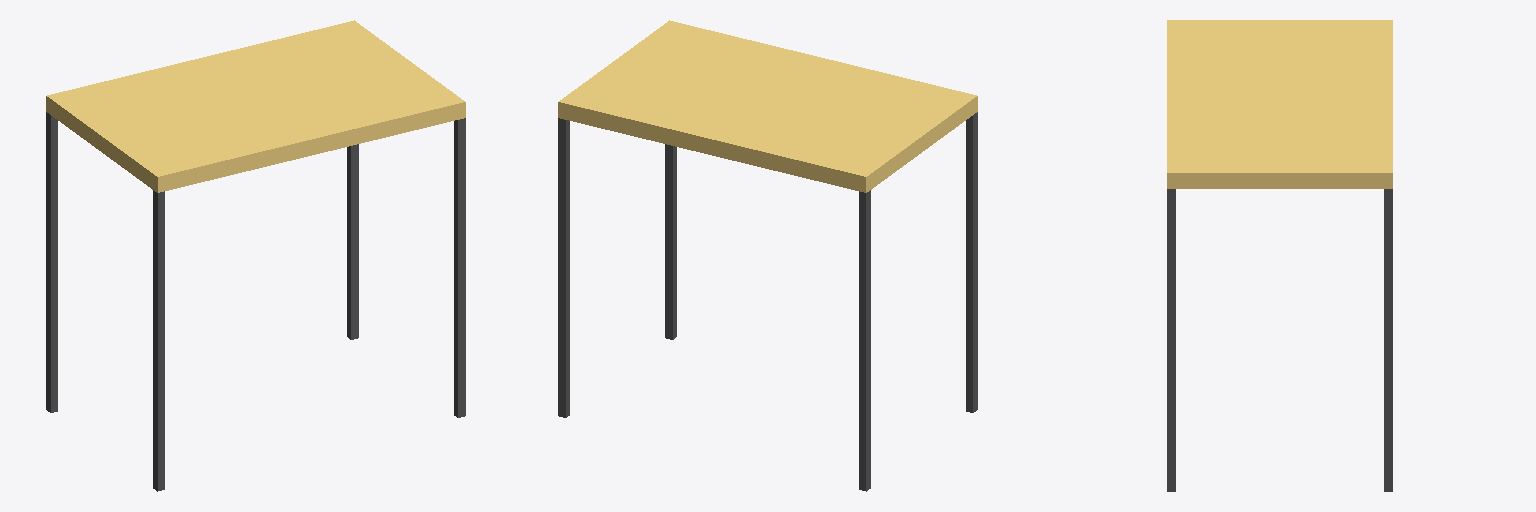
robot.urdf — average_table:
<?xml version="1.0" ?>
<!-- =================================================================================== -->
<!-- |    This document was autogenerated by xacro from average_table.xacro            | -->
<!-- |    EDITING THIS FILE BY HAND IS NOT RECOMMENDED                                 | -->
<!-- =================================================================================== -->
<robot name="average_table" xmlns:xacro="http://www.ros.org/wiki/xacro">
  <!-- Import all Gazebo-customization elements, including Gazebo colors -->
  <gazebo reference="table_link">
    <material>Gazebo/Wood</material>
  </gazebo>
  <gazebo reference="front_right_leg">
    <material>Gazebo/Grey</material>
  </gazebo>
  <gazebo reference="front_left_leg">
    <material>Gazebo/Grey</material>
  </gazebo>
  <gazebo reference="rear_left_leg">
    <material>Gazebo/Grey</material>
  </gazebo>
  <gazebo reference="rear_right_leg">
    <material>Gazebo/Grey</material>
  </gazebo>
  <!-- Import Rviz colors -->
  <material name="red">
    <color rgba="0.8 0.0 0.0 1.0"/>
  </material>
  <material name="Grey">
    <color rgba="0.6 0.6 0.6 1.0"/>
  </material>
  <material name="Black">
    <color rgba="0.0 0.0 0.0 1"/>
  </material>
  <material name="Blue">
    <color rgba="0.0 0.0 1.0 1"/>
  </material>
  <material name="Wood">
    <color rgba="1 0.88 0.56 1"/>
  </material>
  <!--xacro:macro name="table" params="parent"-->
  <link name="average_table_link">
    <visual>
      <origin rpy="0 0 0" xyz="0 0 -0.02"/>
      <geometry>
        <box size="0.8 0.5 0.04"/>
      </geometry>
      <material name="Wood">
        <color rgba="1 0.88 0.56 1"/>
      </material>
    </visual>
    <inertial>
      <origin rpy="0 0 0" xyz="0 0 0"/>
      <mass value="1"/>
      <inertia ixx="0.0741666666667" ixy="0.0" ixz="0.0" iyy="0.0209666666667" iyz="0.0" izz="0.0534666666667"/>
    </inertial>
    <collision>
      <origin rpy="0 0 0" xyz="0 0 0"/>
      <geometry>
        <box size="0.8 0.5 0.04"/>
      </geometry>
    </collision>
  </link>
  <link name="front_left_leg">
    <visual>
      <origin rpy="0 0 0" xyz="0 0 -0.02"/>
      <geometry>
        <box size="0.02 0.02 0.74"/>
      </geometry>
      <material name="Grey">
        <color rgba="0.4 0.4 0.4 1"/>
      </material>
    </visual>
    <inertial>
      <origin rpy="0 0 0" xyz="0 0 0"/>
      <mass value="1"/>
      <inertia ixx="0.0114166666667" ixy="0.0" ixz="0.0" iyy="1.66666666667e-05" iyz="0.0" izz="0.0114166666667"/>
    </inertial>
    <collision>
      <origin rpy="0 0 0" xyz="0 0 0"/>
      <geometry>
        <box size="0.02 0.02 0.74"/>
      </geometry>
    </collision>
  </link>
  <joint name="link_front_left_leg" type="fixed">
    <origin rpy="0 0 0" xyz="0.39 0.24 -0.39"/>
    <parent link="average_table_link"/>
    <child link="front_left_leg"/>
  </joint>
  <link name="front_right_leg">
    <visual>
      <origin rpy="0 0 0" xyz="0 0 -0.02"/>
      <geometry>
        <box size="0.02 0.02 0.74"/>
      </geometry>
      <material name="Grey">
        <color rgba="0.4 0.4 0.4 1"/>
      </material>
    </visual>
    <inertial>
      <origin rpy="0 0 0" xyz="0 0 0"/>
      <mass value="1"/>
      <inertia ixx="0.0114166666667" ixy="0.0" ixz="0.0" iyy="1.66666666667e-05" iyz="0.0" izz="0.0114166666667"/>
    </inertial>
    <collision>
      <origin rpy="0 0 0" xyz="0 0 0"/>
      <geometry>
        <box size="0.02 0.02 0.74"/>
      </geometry>
    </collision>
  </link>
  <joint name="link_front_right_leg" type="fixed">
    <origin rpy="0 0 0" xyz="0.39 -0.24 -0.39"/>
    <parent link="average_table_link"/>
    <child link="front_right_leg"/>
  </joint>
  <link name="rear_left_leg">
    <visual>
      <origin rpy="0 0 0" xyz="0 0 -0.02"/>
      <geometry>
        <box size="0.02 0.02 0.74"/>
      </geometry>
      <material name="Grey">
        <color rgba="0.4 0.4 0.4 1"/>
      </material>
    </visual>
    <inertial>
      <origin rpy="0 0 0" xyz="0 0 0"/>
      <mass value="1"/>
      <inertia ixx="0.0114166666667" ixy="0.0" ixz="0.0" iyy="1.66666666667e-05" iyz="0.0" izz="0.0114166666667"/>
    </inertial>
    <collision>
      <origin rpy="0 0 0" xyz="0 0 0"/>
      <geometry>
        <box size="0.02 0.02 0.74"/>
      </geometry>
    </collision>
  </link>
  <joint name="link_rear_left_leg" type="fixed">
    <origin rpy="0 0 0" xyz="-0.39 0.24 -0.39"/>
    <parent link="average_table_link"/>
    <child link="rear_left_leg"/>
  </joint>
  <link name="rear_right_leg">
    <visual>
      <origin rpy="0 0 0" xyz="0 0 -0.02"/>
      <geometry>
        <box size="0.02 0.02 0.74"/>
      </geometry>
      <material name="Grey">
        <color rgba="0.4 0.4 0.4 1"/>
      </material>
    </visual>
    <inertial>
      <origin rpy="0 0 0" xyz="0 0 0"/>
      <mass value="1"/>
      <inertia ixx="0.0114166666667" ixy="0.0" ixz="0.0" iyy="1.66666666667e-05" iyz="0.0" izz="0.0114166666667"/>
    </inertial>
    <collision>
      <origin rpy="0 0 0" xyz="0 0 0"/>
      <geometry>
        <box size="0.02 0.02 0.74"/>
      </geometry>
    </collision>
  </link>
  <joint name="link_rear_right_leg" type="fixed">
    <origin rpy="0 0 0" xyz="-0.39 -0.24 -0.39"/>
    <parent link="average_table_link"/>
    <child link="rear_right_leg"/>
  </joint>
</robot>

--- What the picture shows (computed from the rendered views, not written in the file) ---
3 views of the same robot in one strip: view 1: azimuth 30°, elevation 25°; view 2: azimuth 150°, elevation 25°; view 3: azimuth 270°, elevation 25° (orthographic).
Model average_table with 5 links and 4 joints (4 fixed), rooted at average_table_link, posed all joints at 0.
Visible links, largest first — view 1: average_table_link, rear_right_leg, front_right_leg, rear_left_leg, front_left_leg; view 2: average_table_link, rear_left_leg, front_left_leg, rear_right_leg, front_right_leg; view 3: average_table_link, front_left_leg, front_right_leg.
Boxes of the visible links, x1=… form: average_table_link: x1=46, y1=20, x2=465, y2=192; rear_right_leg: x1=153, y1=190, x2=164, y2=491; front_right_leg: x1=454, y1=118, x2=465, y2=417; rear_left_leg: x1=46, y1=112, x2=57, y2=412; front_left_leg: x1=347, y1=144, x2=358, y2=339; average_table_link: x1=558, y1=20, x2=977, y2=192; rear_left_leg: x1=859, y1=190, x2=870, y2=491; front_left_leg: x1=558, y1=118, x2=569, y2=417; rear_right_leg: x1=966, y1=112, x2=977, y2=412; front_right_leg: x1=665, y1=144, x2=676, y2=339; average_table_link: x1=1167, y1=20, x2=1392, y2=188; front_left_leg: x1=1384, y1=189, x2=1392, y2=491; front_right_leg: x1=1167, y1=189, x2=1175, y2=491.
Size in the robot's own frame: 0.8 by 0.5 by 0.78 metres.
Geometry: primitives only (box / cylinder / sphere), no mesh files.